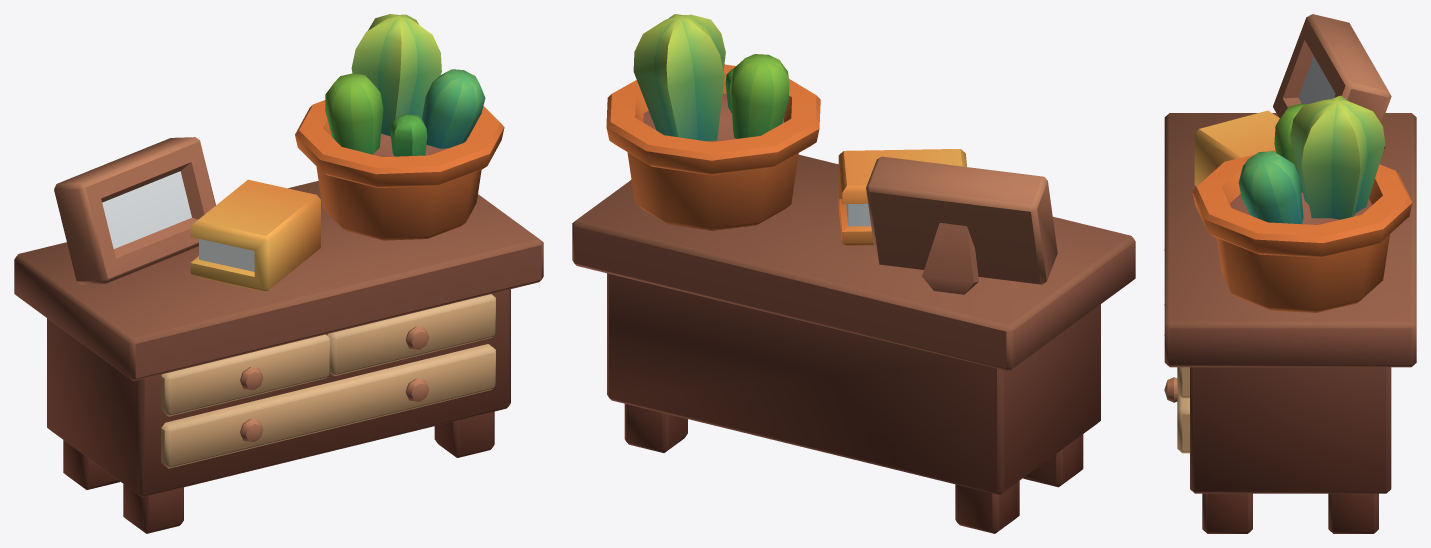
Rendered from cabinet-medium-decorated.glb.
3 renders of one model, left to right at view 1: azimuth 30°, elevation 25°; view 2: azimuth 150°, elevation 25°; view 3: azimuth 270°, elevation 25°, orthographic. The views are drawn at different scales.
Parts seen in each view (by area): view 1: cabinet_medium_decorated; view 2: cabinet_medium_decorated; view 3: cabinet_medium_decorated.
Boxes of the visible parts, x1,y1,x2,y2 form: cabinet_medium_decorated: (14,14,543,533); cabinet_medium_decorated: (572,14,1135,533); cabinet_medium_decorated: (1164,14,1416,533).
Size of the model in its own units: 2.04 by 1.83 by 1.
